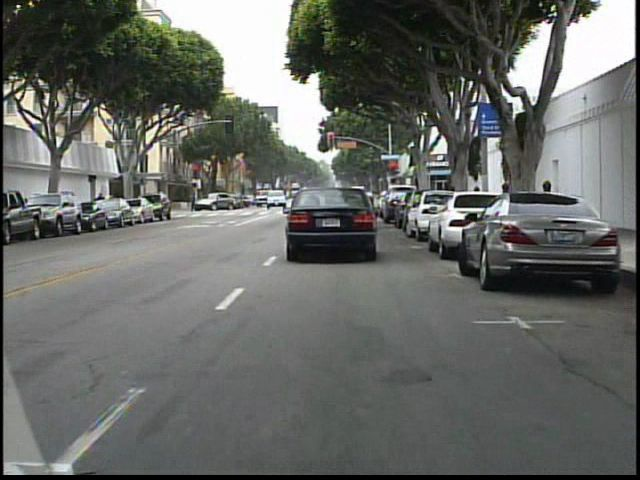person: (93, 189, 110, 224), (188, 190, 203, 214)
